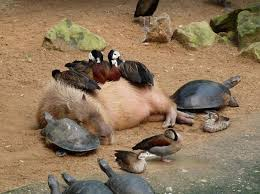capivara: (37, 76, 194, 146)
